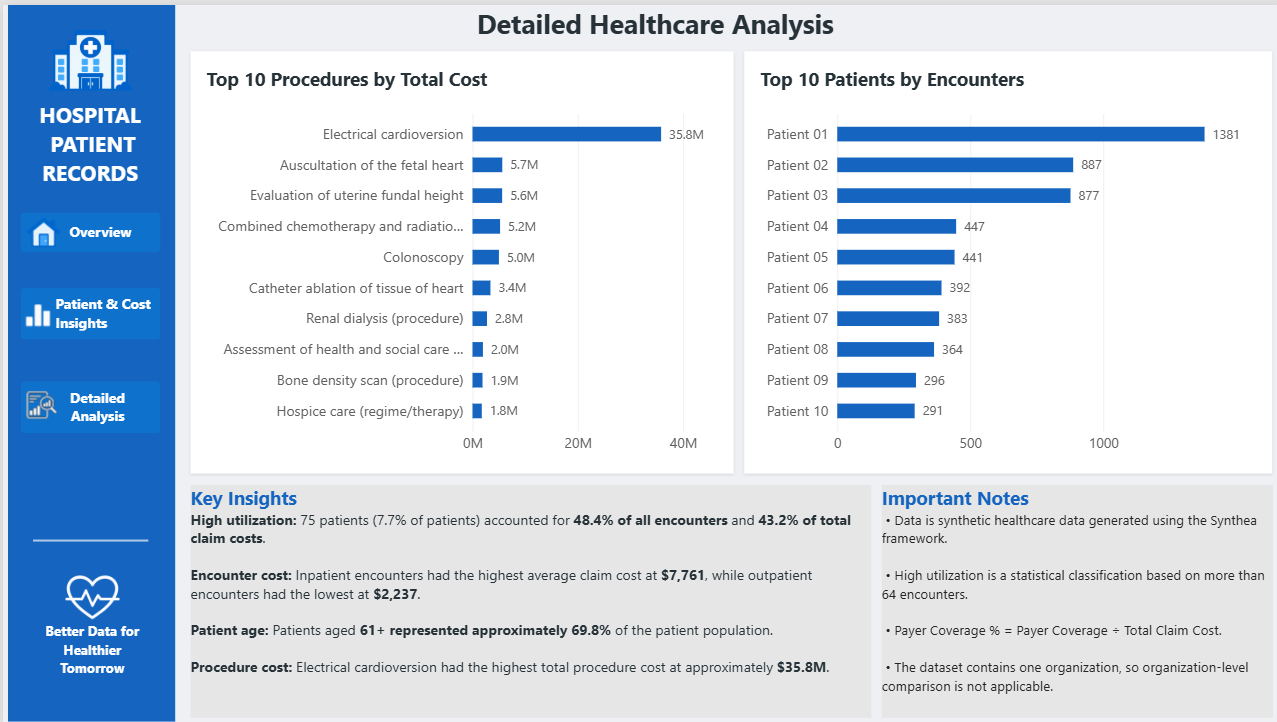

The dashboard page shown, as its layout file describes it:
{"tool":"powerbi","page":{"name":"Page 3","canvas":[1280,720],"ordinal":2},"visuals":[{"type":"textbox","box":[403.4,0,451,66],"z":0},{"type":"clusteredBarChart","title":"Top 10 Procedures by Total Cost","fields":{"Category":["procedures.DESCRIPTION"],"Y":["Sum(procedures.BASE_COST)"]},"box":[42.5,67.2,1192.5,323.8],"z":1001},{"type":"clusteredBarChart","title":"Top 10 Patients by Encounters","fields":{"Y":["Sum(top_patient_encounters (2).Number_of_Encounters)"],"Category":["top_patient_encounters (2).PATIENT"]},"box":[42.5,391.1,1192.5,323.8],"z":1002}]}

Visuals, with their boxes in screenshot pixels (x1, y1, x2, y2), scaled from the page's 1280x720 canvas onto the 1277x722 screenshot:
textbox: (402,0,852,66)
"Top 10 Procedures by Total Cost" clusteredBarChart: (42,67,1232,392)
"Top 10 Patients by Encounters" clusteredBarChart: (42,392,1232,717)
